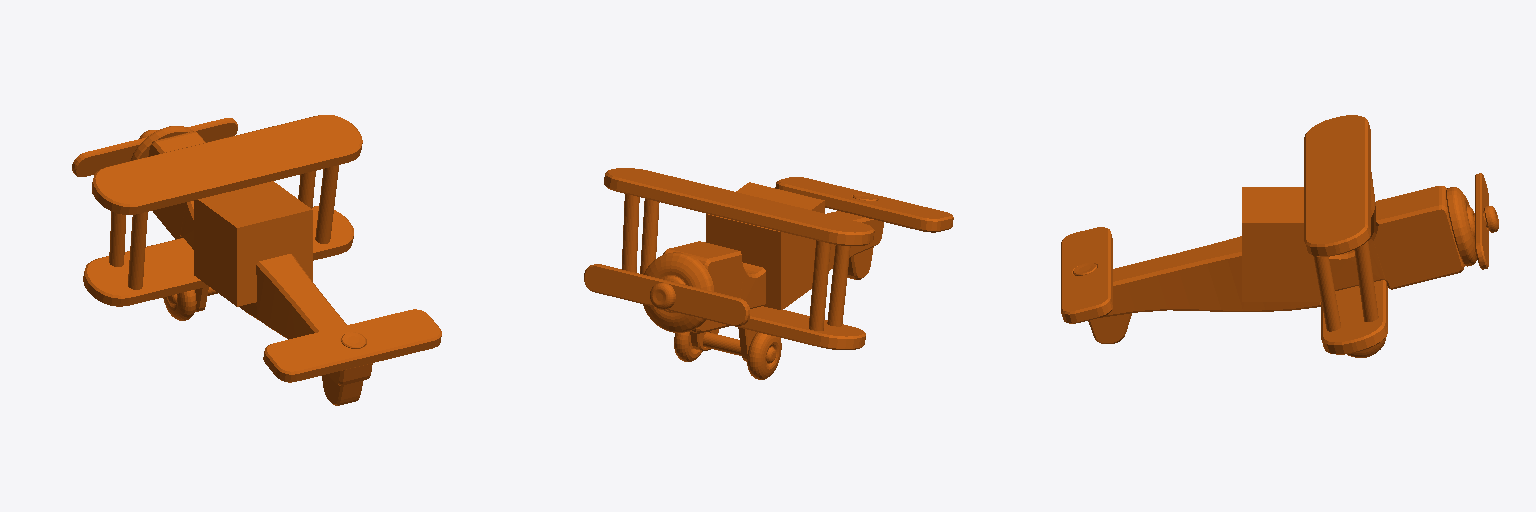
The model's file is planeUV2.obj.
3 renders of one model, left to right at view 1: azimuth 30°, elevation 25°; view 2: azimuth 150°, elevation 25°; view 3: azimuth 270°, elevation 25°, orthographic.
Visible parts, largest first — view 1: basic_plane; view 2: basic_plane; view 3: basic_plane.
Boxes of the visible parts, <box> form: basic_plane: <box>72,115,441,405</box>; basic_plane: <box>584,168,953,379</box>; basic_plane: <box>1061,115,1498,357</box>.
Size of the model in its own units: 6.88 by 4.23 by 10.08.